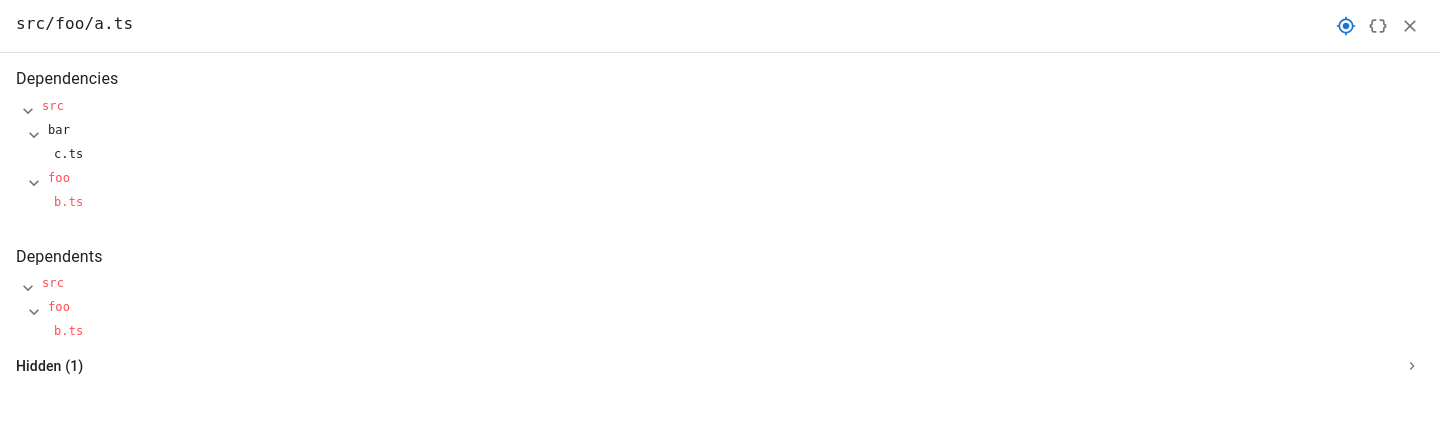
Test: DependencyPanel › shows hidden dependents for unselected modules
Click the button "Hidden (1)": (50, 366) [16,352,1424,380]
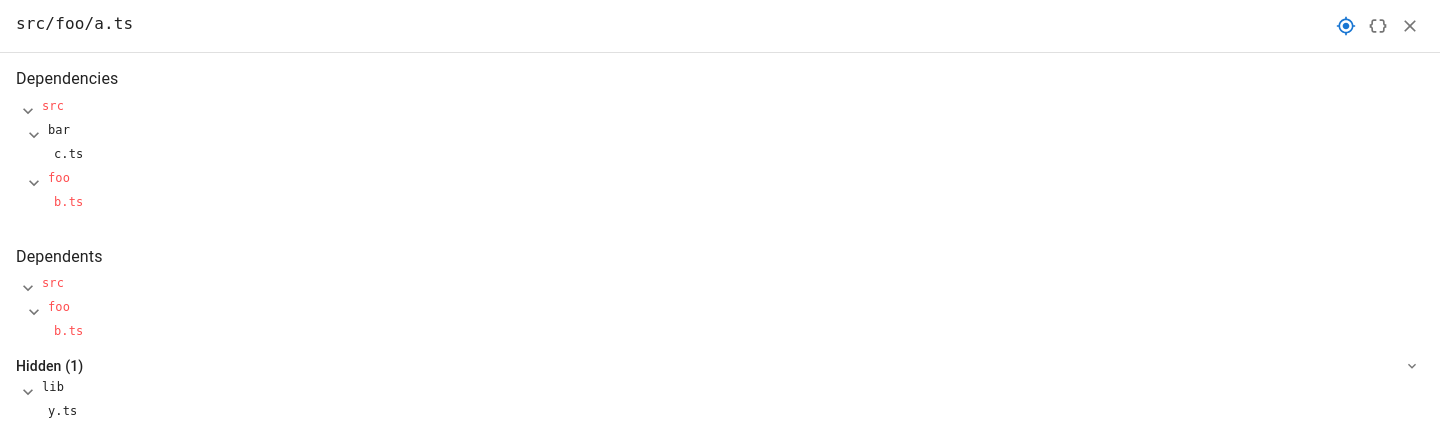
expect the text "y.ts" is shown: met, box [48,404,77,418]
